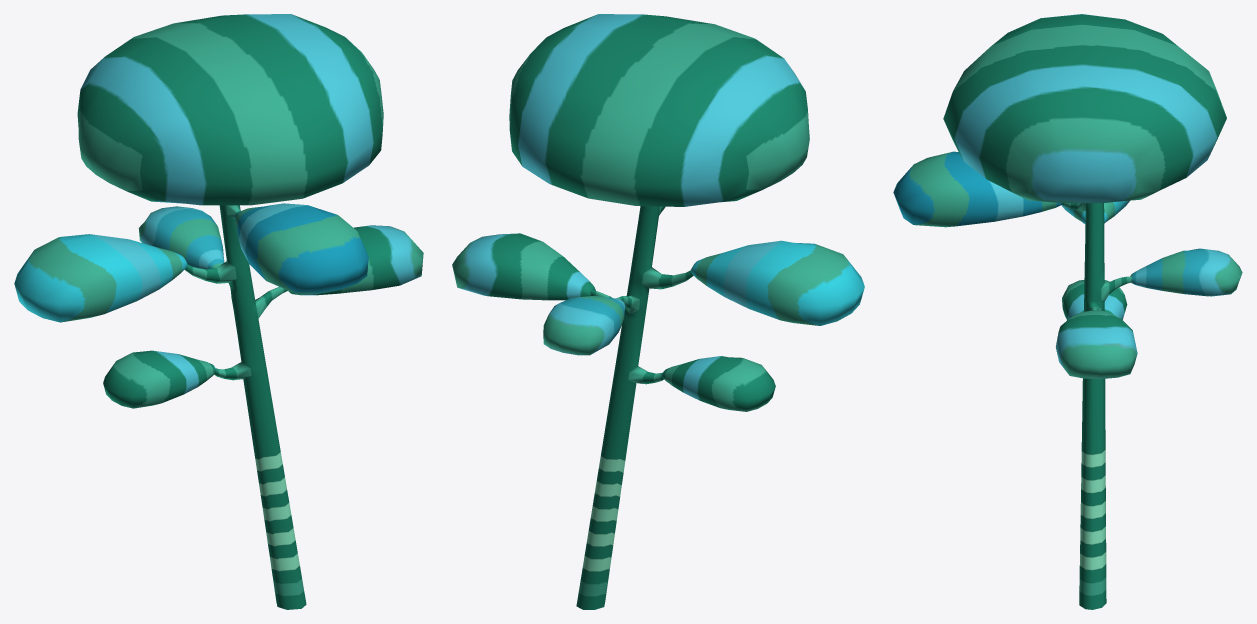
File: tree_L.fbx
The picture shows the model from 3 angles, left to right: view 1: azimuth 30°, elevation 25°; view 2: azimuth 150°, elevation 25°; view 3: azimuth 270°, elevation 25°; orthographic projection. The views are drawn at different scales.
Parts seen in each view (by area): view 1: treeH; view 2: treeH; view 3: treeH.
Boxes of the visible parts, bbox=[...] form: treeH: bbox=[14, 14, 423, 609]; treeH: bbox=[452, 14, 864, 609]; treeH: bbox=[893, 14, 1242, 609].
Size of the model in its own units: 209 by 291 by 174.
